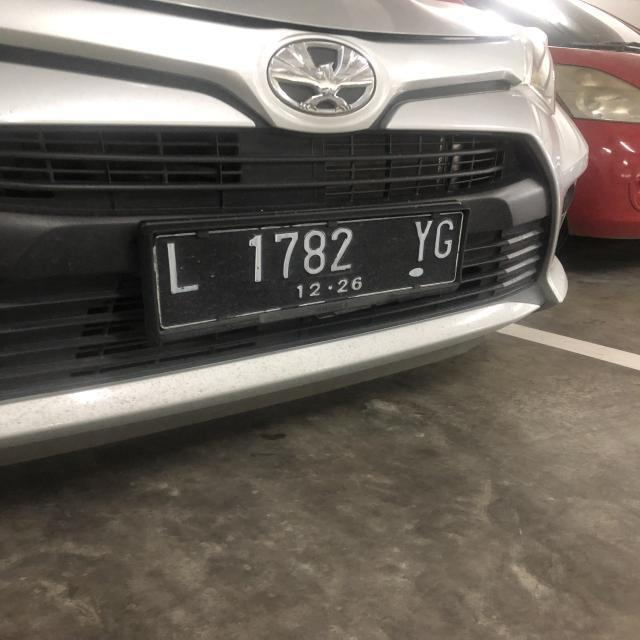1: (240, 235, 272, 282)
2: (328, 223, 356, 274)
7: (274, 229, 302, 285)
8: (302, 228, 328, 278)
G: (432, 214, 457, 262)
Y: (414, 216, 434, 270)
